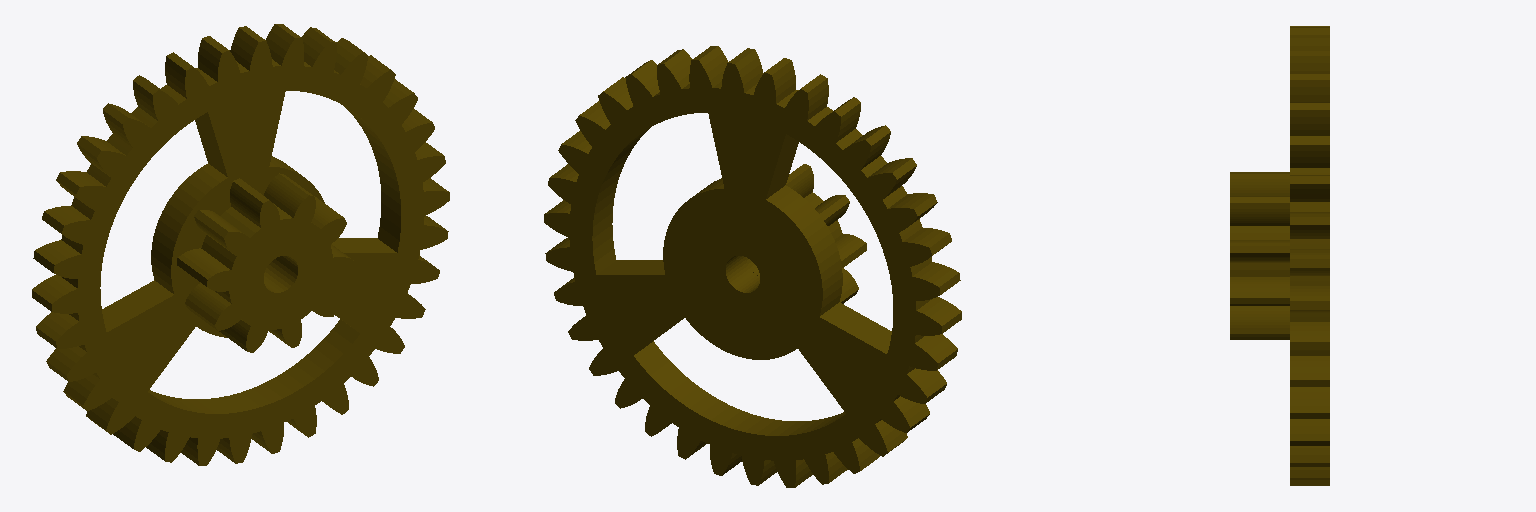
File: gear2.obj
3 views of the same model, side by side, from view 1: azimuth 30°, elevation 25°; view 2: azimuth 150°, elevation 25°; view 3: azimuth 270°, elevation 25° (orthographic).
Parts seen in each view (by area): view 1: Gearing.003_Gearing.006; view 2: Gearing.003_Gearing.006; view 3: Gearing.003_Gearing.006.
Boxes of the visible parts, x1=… form: Gearing.003_Gearing.006: x1=32, y1=24, x2=449, y2=465; Gearing.003_Gearing.006: x1=544, y1=46, x2=961, y2=487; Gearing.003_Gearing.006: x1=1230, y1=26, x2=1329, y2=485.
Size of the model in its own units: 1.81 by 1.81 by 0.3937.